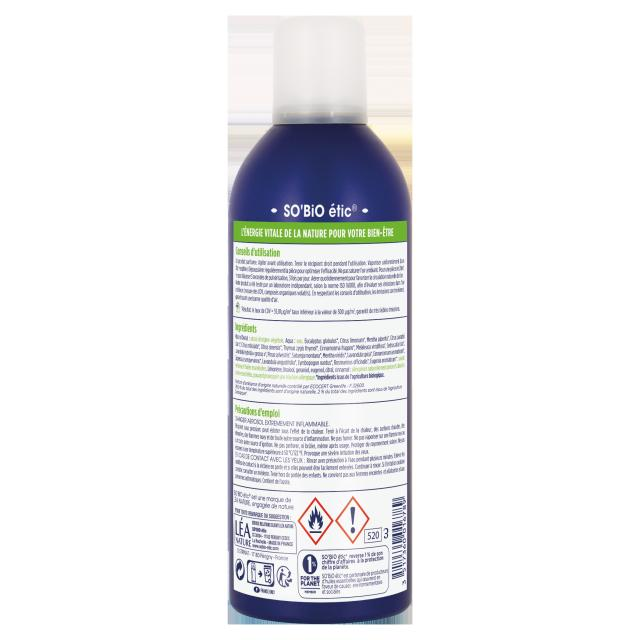GHS_Symbol_EXCLAMATION_MARK: (336, 495, 370, 543)
GHS_Symbol_FLAME: (298, 498, 334, 546)
